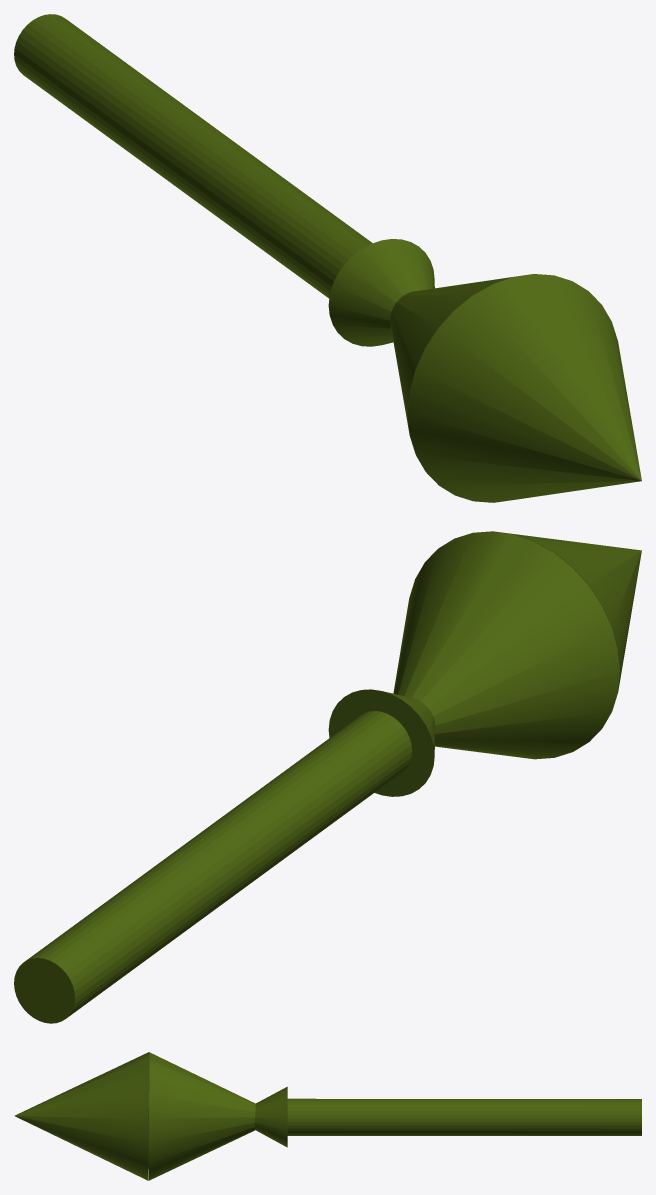
The model's file is RocketBomb.fbx.
3 renders of one model, top to bottom at view 1: azimuth 30°, elevation 25°; view 2: azimuth 150°, elevation 25°; view 3: azimuth 270°, elevation 25°, orthographic. The views are drawn at different scales.
Visible parts, largest first — view 1: RocketBomb; view 2: RocketBomb; view 3: RocketBomb.
Boxes of the visible parts, bbox=[...] form: RocketBomb: bbox=[14, 14, 641, 502]; RocketBomb: bbox=[14, 531, 641, 1023]; RocketBomb: bbox=[14, 1052, 641, 1180].
Size of the model in its own units: 48.68 by 48.66 by 237.
